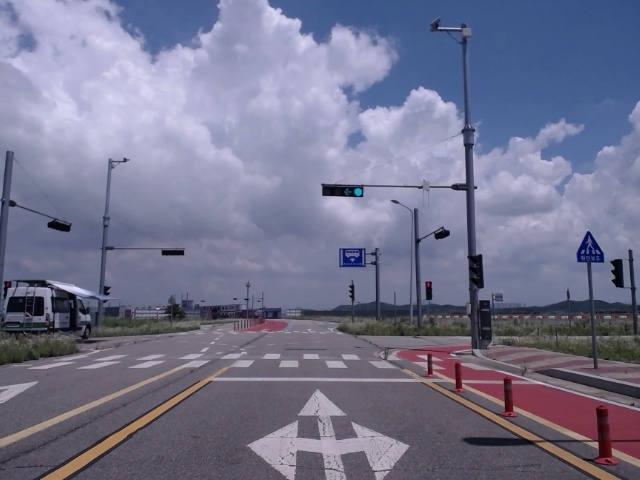all_green_4: (319, 183, 362, 195)
